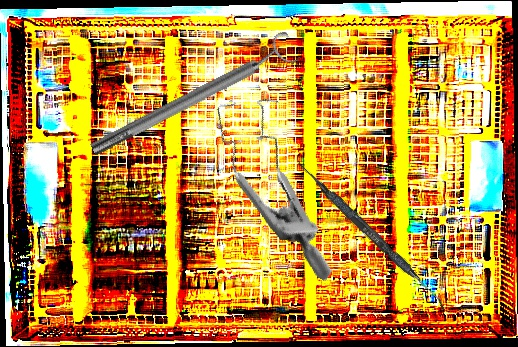Fixation Ring: (83, 28, 303, 166)
Spatula Surgical: (291, 159, 453, 311)
Speculum: (169, 76, 394, 282)
